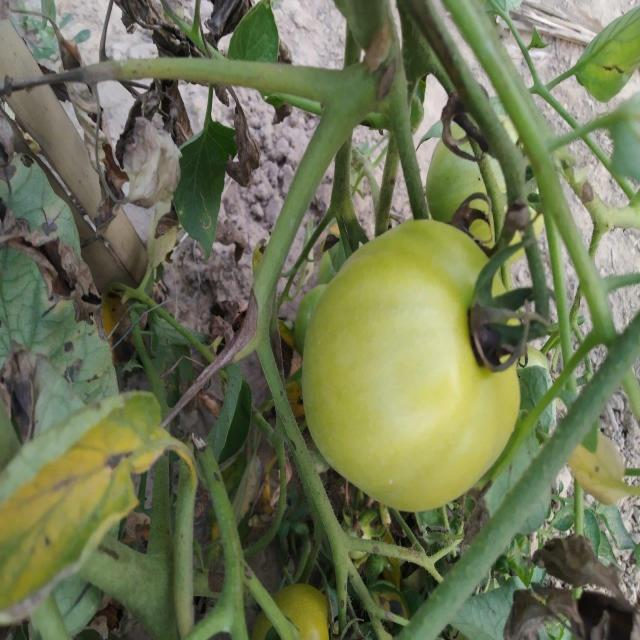Unripe: (304, 215, 521, 513)
